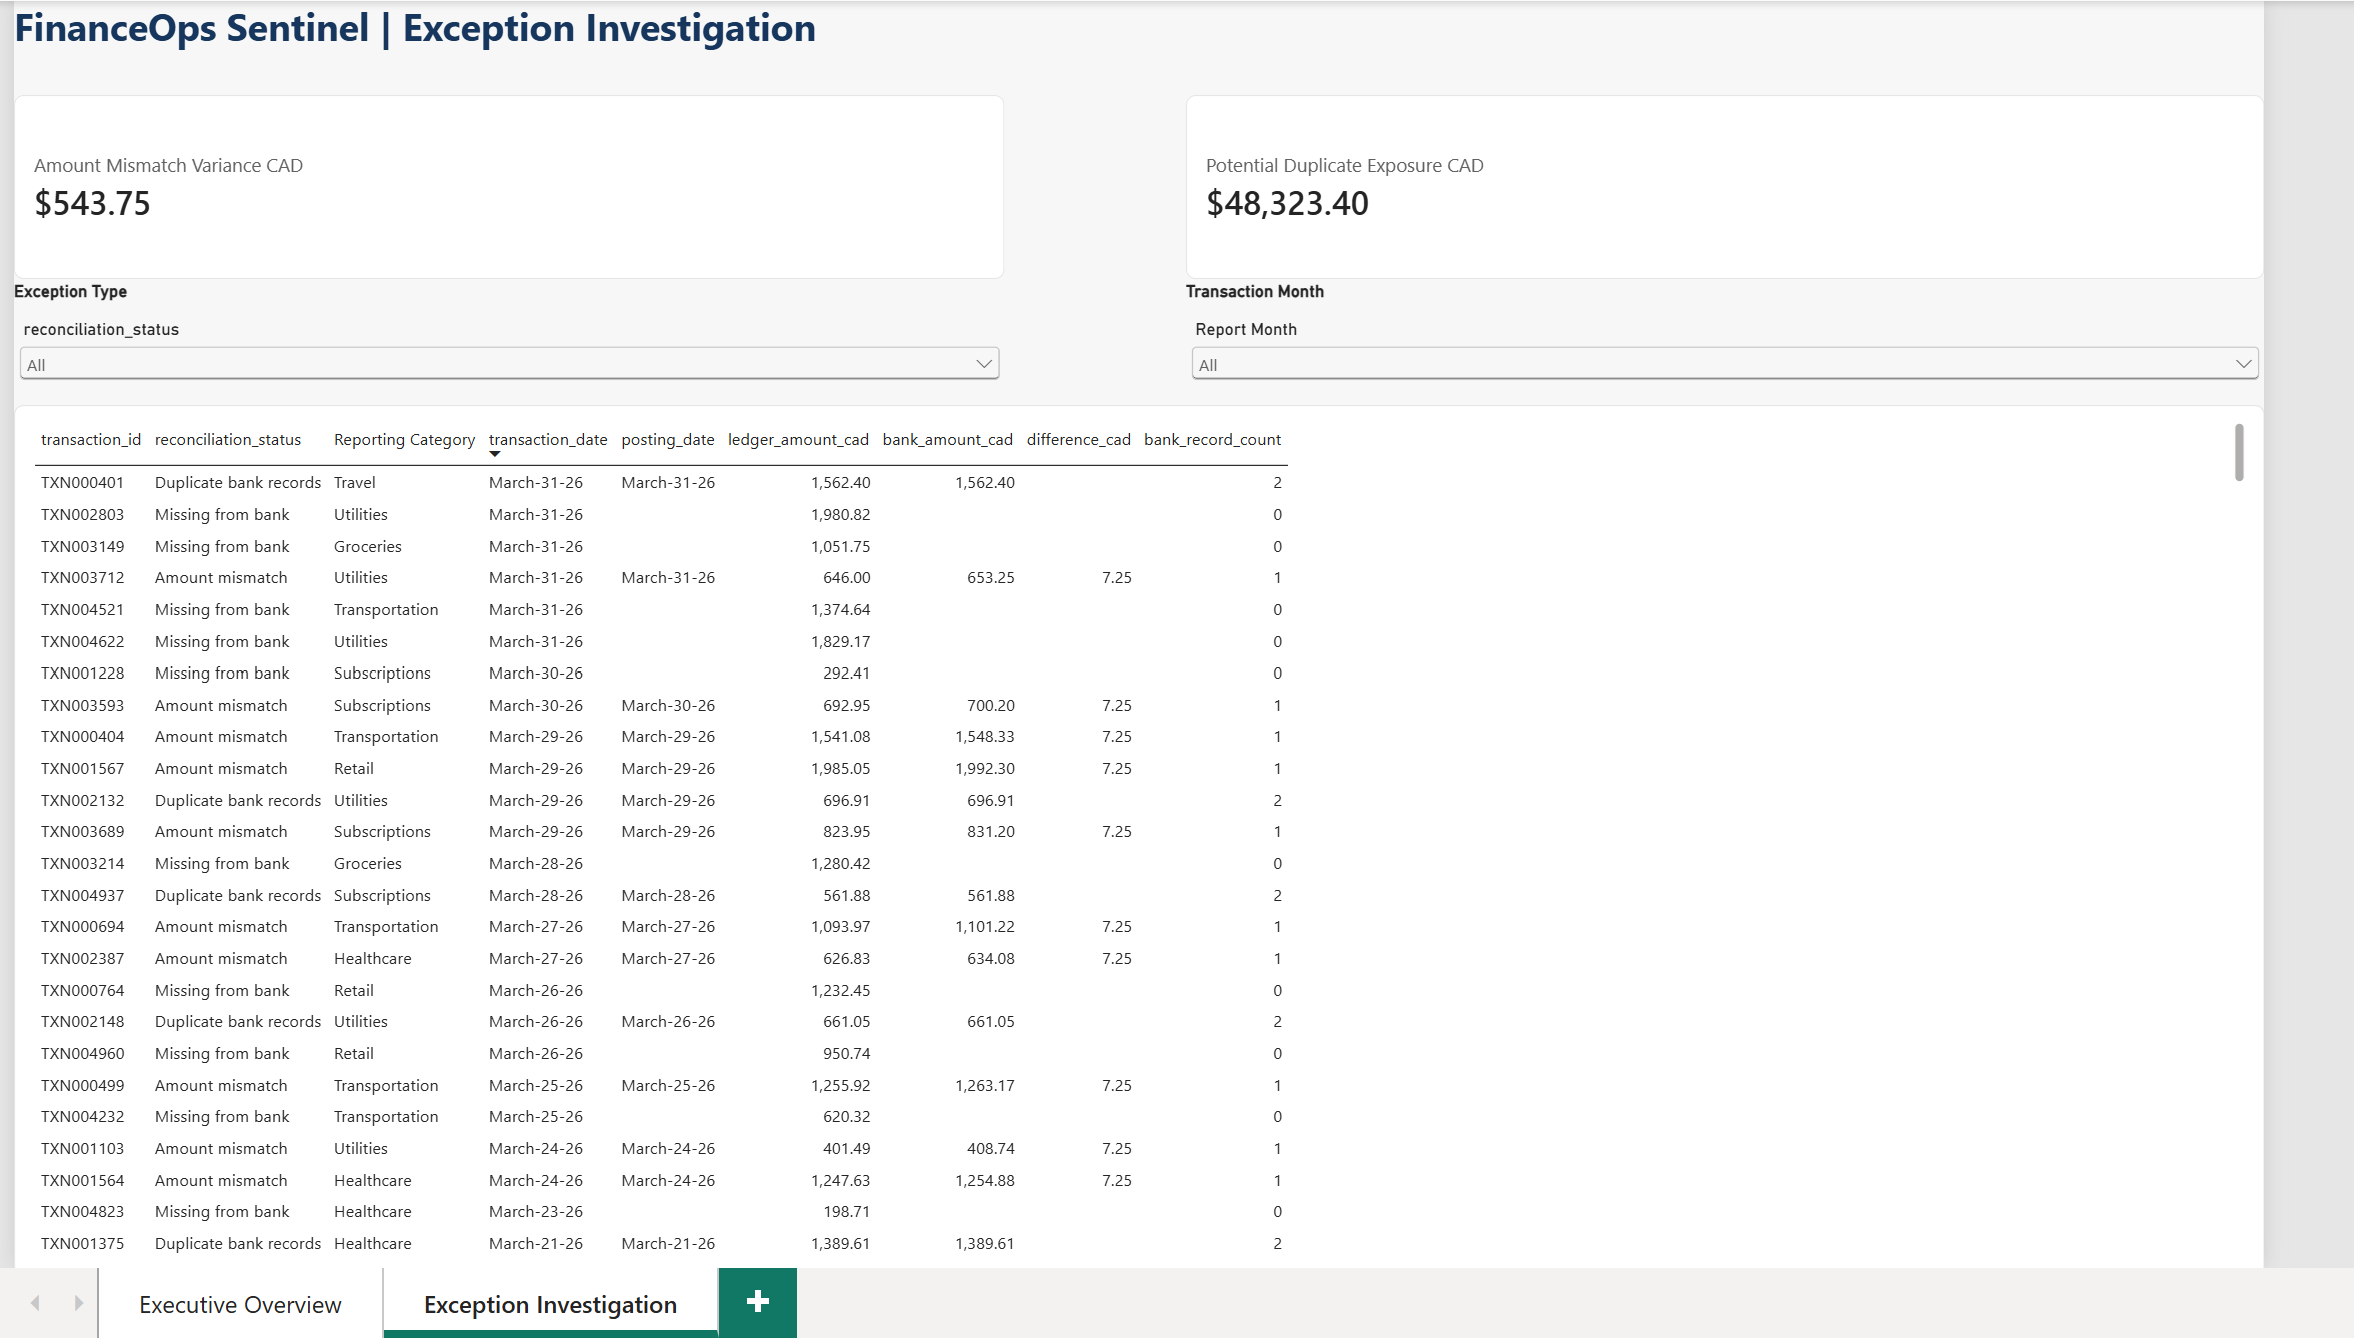

Layout of this report page (visuals, bound fields, positions):
{"tool":"powerbi","page":{"name":"Exception Investigation","canvas":[1920,1080],"ordinal":1},"visuals":[{"type":"textbox","box":[0,0,1920,81.6],"z":0},{"type":"tableEx","fields":{"Values":["reconciliation_details.transaction_id","reconciliation_details.reconciliation_status","reconciliation_details.Reporting Category","reconciliation_details.transaction_date","reconciliation_details.posting_date","reconciliation_details.ledger_amount_cad","reconciliation_details.bank_amount_cad","reconciliation_details.difference_cad","reconciliation_details.bank_record_count"]},"box":[0,344.3,1920,741.6],"z":1},{"type":"cardVisual","fields":{"Data":["reconciliation_details.Amount Mismatch Variance CAD"]},"box":[0,80.7,845.9,157.4],"z":2},{"type":"cardVisual","fields":{"Data":["reconciliation_details.Potential Duplicate Exposure CAD"]},"box":[999.3,80.7,920.7,157.4],"z":3},{"type":"slicer","title":"Exception Type","fields":{"Values":["reconciliation_details.reconciliation_status"]},"box":[0,238,845.9,137.7],"z":4},{"type":"slicer","title":"Transaction Month","fields":{"Values":["reconciliation_details.Report Month"]},"box":[999.3,238,920.7,137.7],"z":5}]}

Visuals, with their boxes on the page's 1920x1080 design canvas (x1, y1, x2, y2). These are canvas units, not pixel positions in the 2354x1338 screenshot, which may show the page scaled, cropped or inside an application window:
textbox: x1=0, y1=0, x2=1920, y2=82
tableEx - reconciliation_details.transaction_id x reconciliation_details.reconciliation_status: x1=0, y1=344, x2=1920, y2=1086
cardVisual - reconciliation_details.Amount Mismatch Variance CAD: x1=0, y1=81, x2=846, y2=238
cardVisual - reconciliation_details.Potential Duplicate Exposure CAD: x1=999, y1=81, x2=1920, y2=238
"Exception Type" slicer: x1=0, y1=238, x2=846, y2=376
"Transaction Month" slicer: x1=999, y1=238, x2=1920, y2=376
